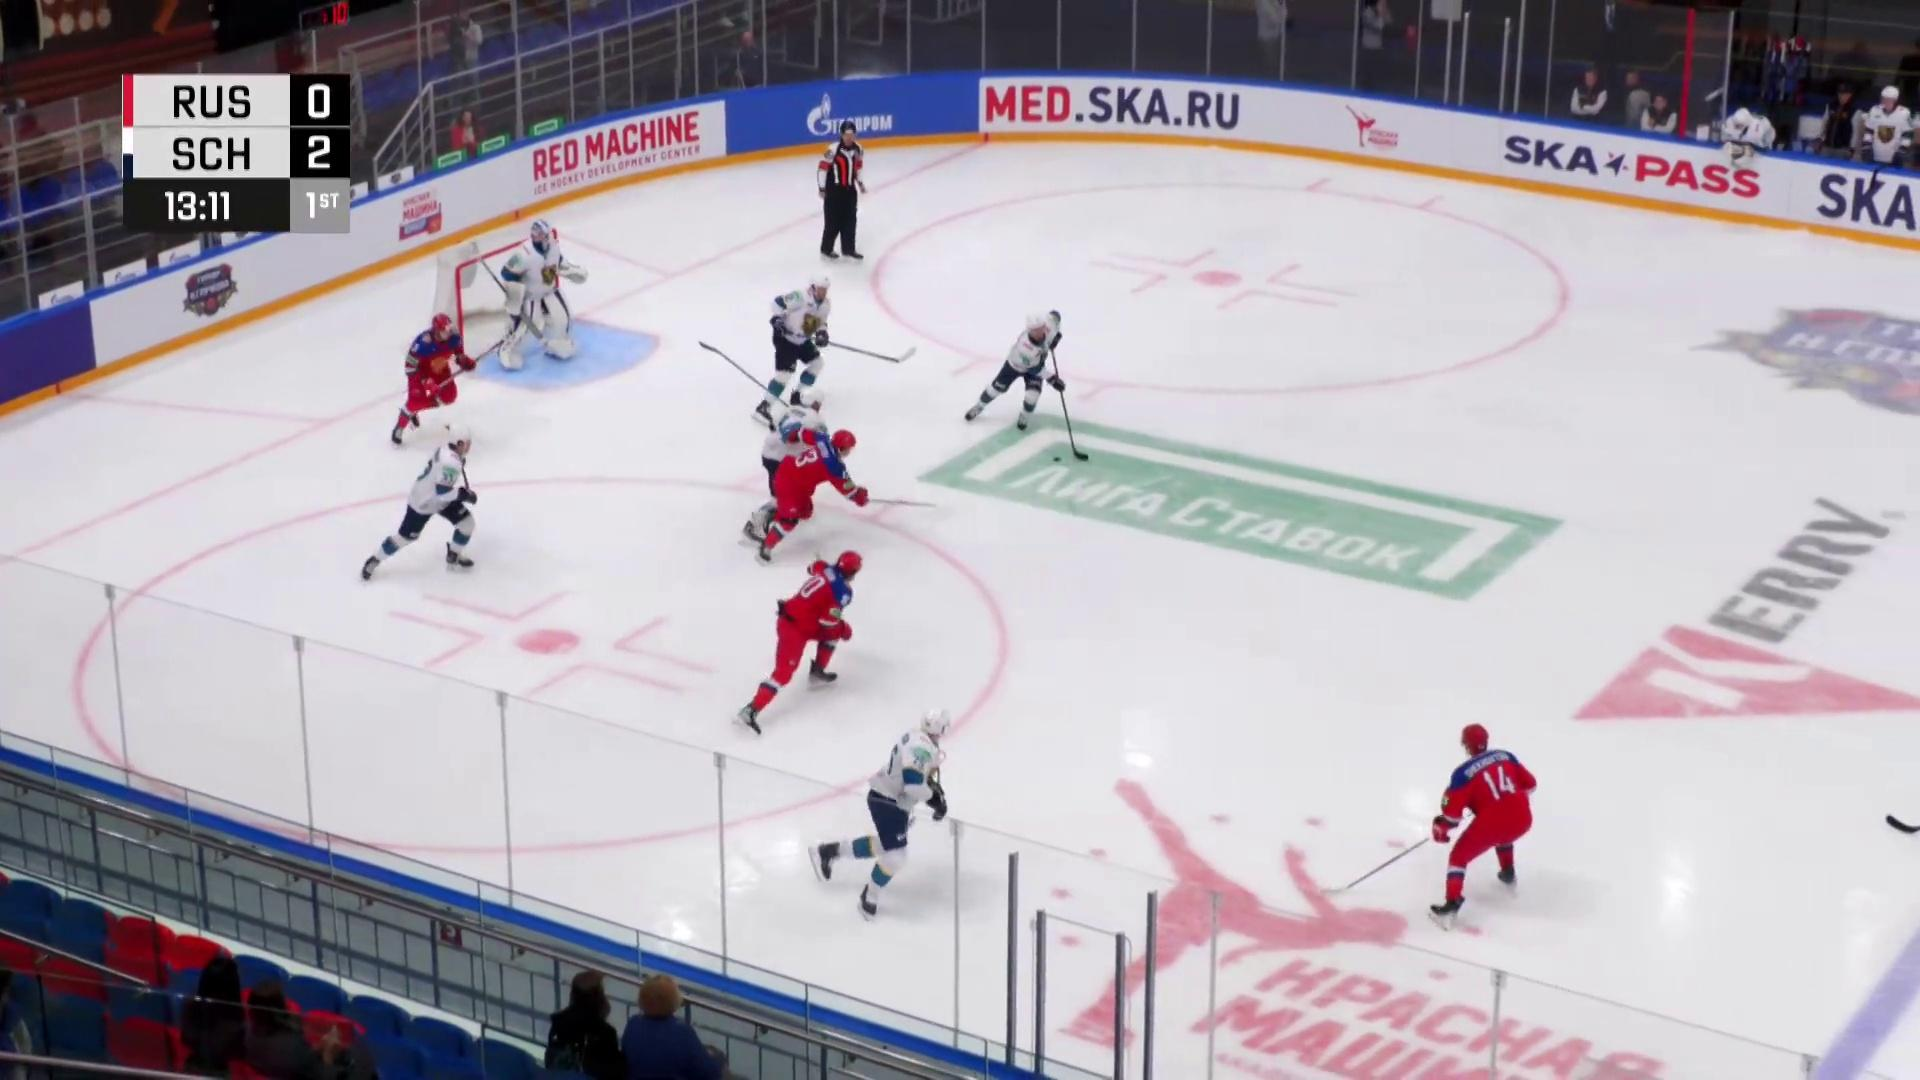ball: (1052, 458, 1062, 463)
